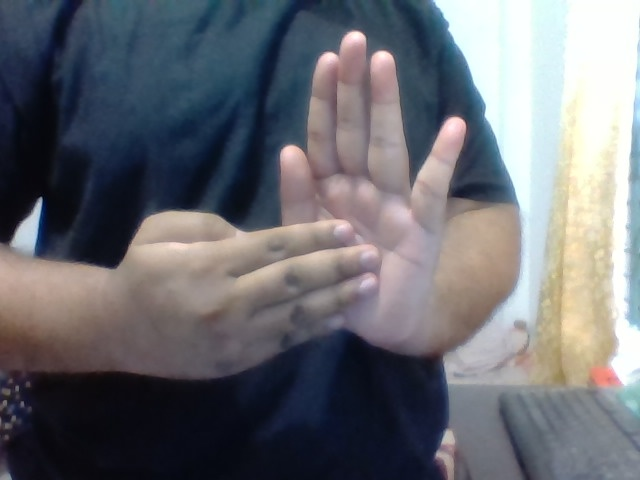H: (105, 26, 464, 394)
